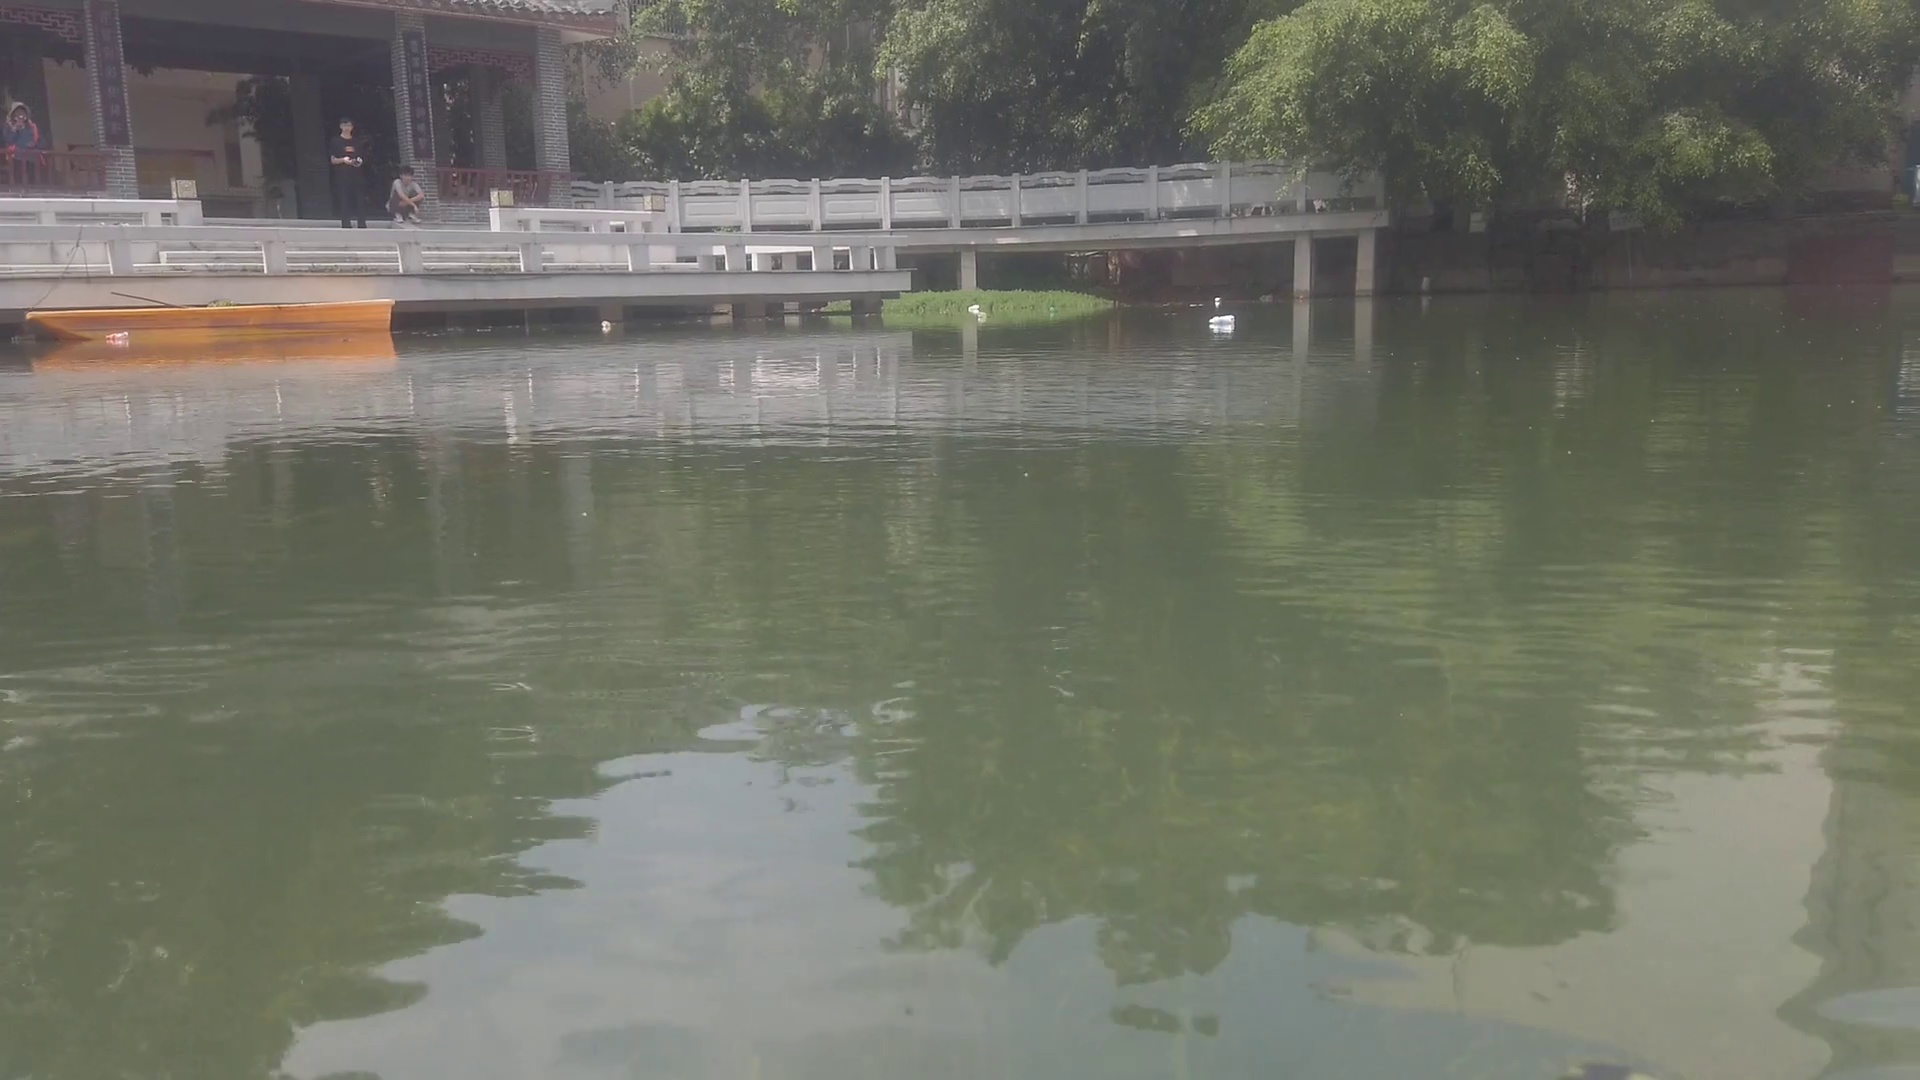bottle: (1201, 311, 1238, 324), (102, 330, 127, 343), (599, 316, 613, 328)
carton: (1211, 298, 1224, 307)
plastic: (965, 301, 978, 315)
